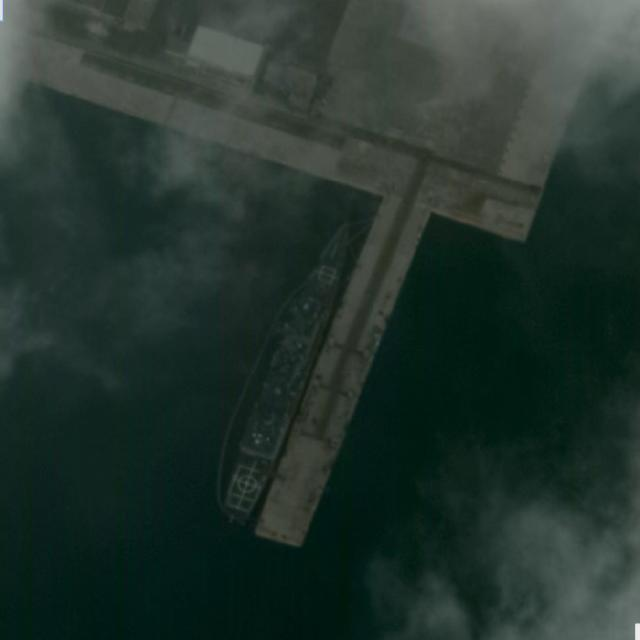Dock: (254, 194, 429, 546)
Frigate: (217, 214, 362, 521)
